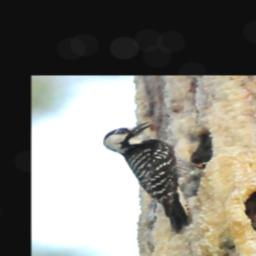Woodpecker: (101, 121, 205, 234)
